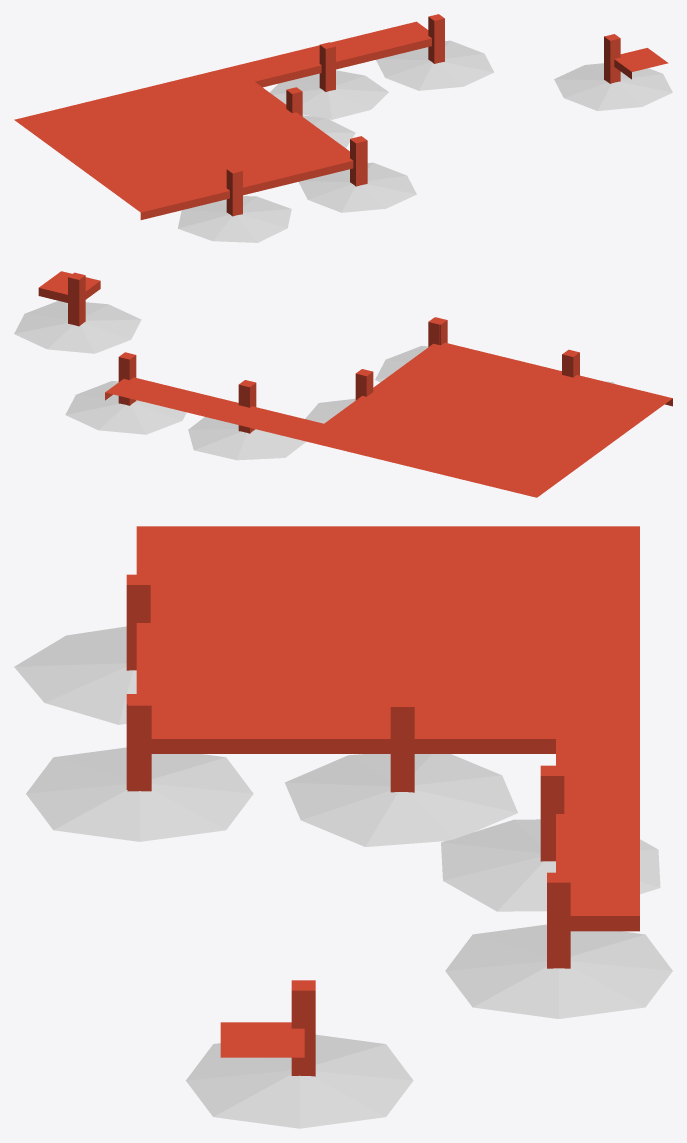
File: tileset_bridge.fbx
3 views of the same model, one above another, from view 1: azimuth 30°, elevation 25°; view 2: azimuth 150°, elevation 25°; view 3: azimuth 270°, elevation 25° (orthographic). The views are drawn at different scales.
Visible parts, largest first — view 1: bridge_air_flat, bridge_air_in, bridge_air_saddle, bridge_air_line, bridge_air_out, bridge_air_line.004; view 2: bridge_air_flat, bridge_air_in, bridge_air_saddle, bridge_air_line, bridge_air_out; view 3: bridge_air_flat, bridge_air_in, bridge_air_saddle, bridge_air_line, bridge_air_out.
Boxes of the visible parts, x1,y1,x2,y2 form: bridge_air_flat: (14, 75, 302, 196); bridge_air_in: (197, 30, 400, 152); bridge_air_saddle: (376, 14, 672, 110); bridge_air_line: (120, 152, 323, 242); bridge_air_out: (298, 136, 416, 212); bridge_air_line.004: (350, 136, 366, 186); bridge_air_flat: (341, 367, 649, 497); bridge_air_in: (145, 357, 453, 460); bridge_air_saddle: (14, 271, 186, 434); bridge_air_line: (454, 349, 672, 414); bridge_air_out: (375, 317, 475, 382); bridge_air_flat: (220, 526, 639, 703); bridge_air_in: (220, 696, 660, 911); bridge_air_saddle: (186, 872, 672, 1128); bridge_air_line: (14, 526, 220, 724); bridge_air_out: (26, 695, 253, 841).
Size of the model in its own units: 15.39 by 1.3 by 7.86.
